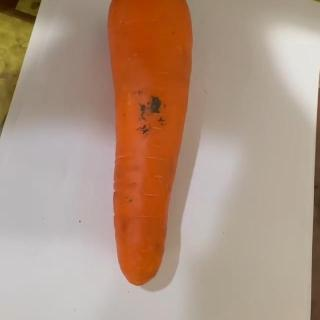carrot: (99, 0, 199, 289)
